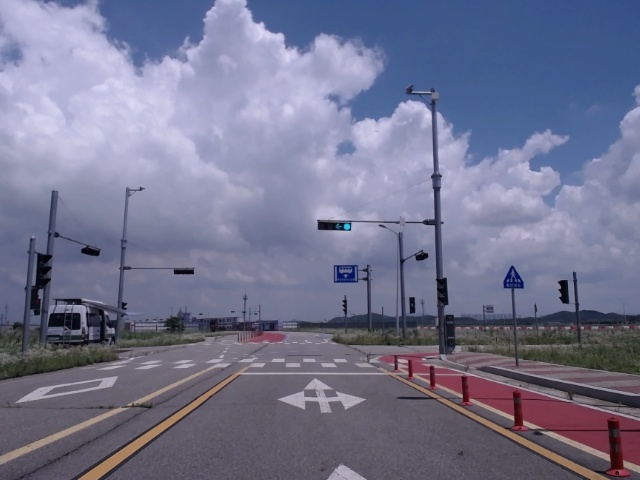all_green_4: (320, 219, 351, 230)
